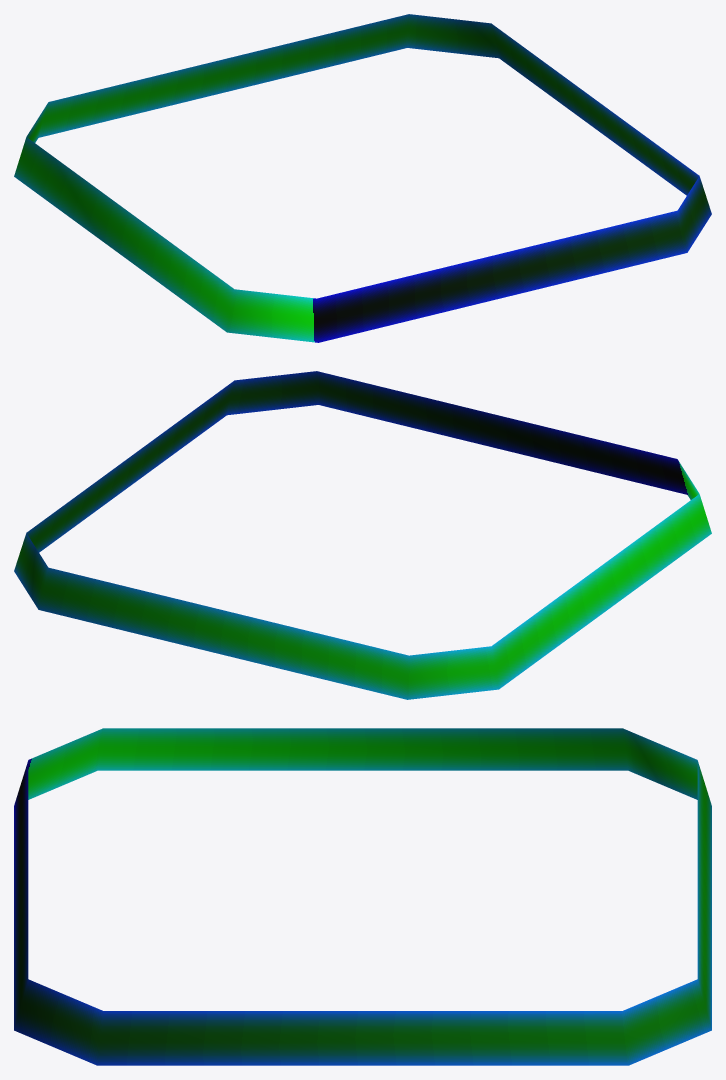
File: hologram_furnacefieldrim_geo.fbx
3 views of the same model, one above another, from view 1: azimuth 30°, elevation 25°; view 2: azimuth 150°, elevation 25°; view 3: azimuth 270°, elevation 25° (orthographic). The views are drawn at different scales.
Parts seen in each view (by area): view 1: Cube.001; view 2: Cube.001; view 3: Cube.001.
Boxes of the visible parts, x1,y1,x2,y2 form: Cube.001: (14,14,711,342); Cube.001: (14,371,711,699); Cube.001: (14,728,711,1065).
Size of the model in its own units: 1 by 0.0771 by 1.
